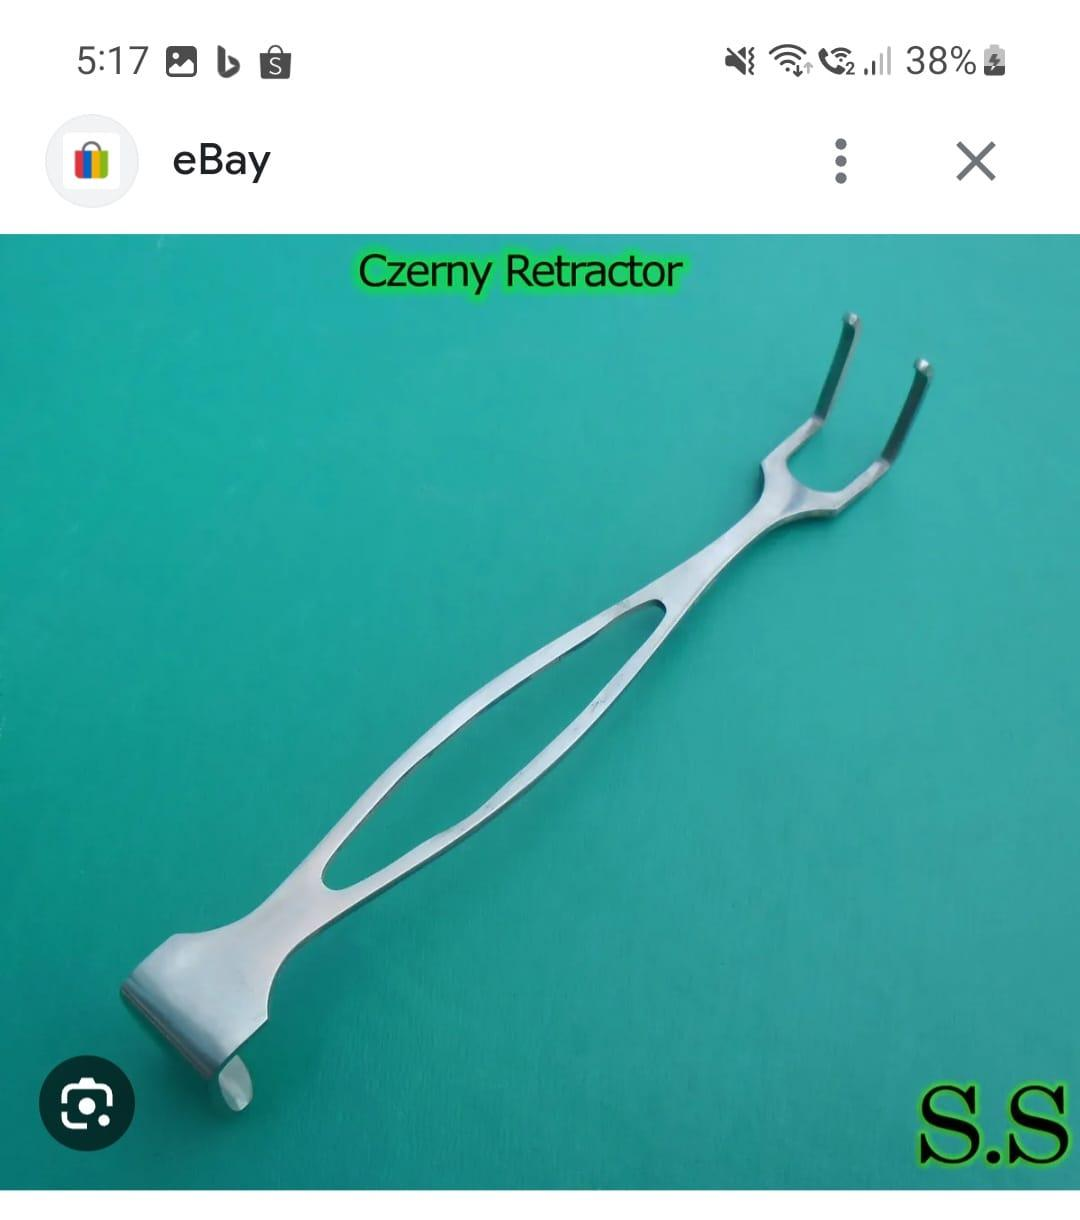Czerney Retractor: (106, 302, 952, 1111)
